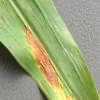Corn leaf blight: (0, 1, 89, 100)
